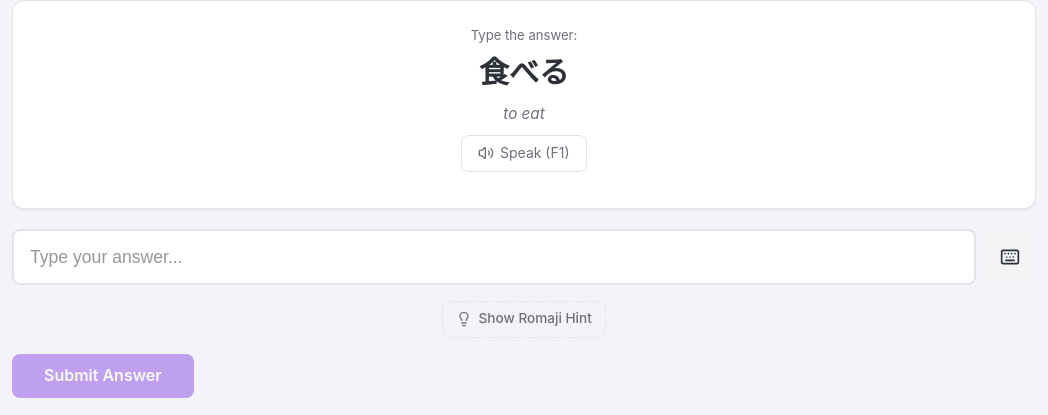
TypingQuiz Component › Input Behavior › should enable submit button when input has text
Type "something" into the field with placeholder "Type your answer...".
click(494, 257); type("something")  # box 12,229 -> 976,285
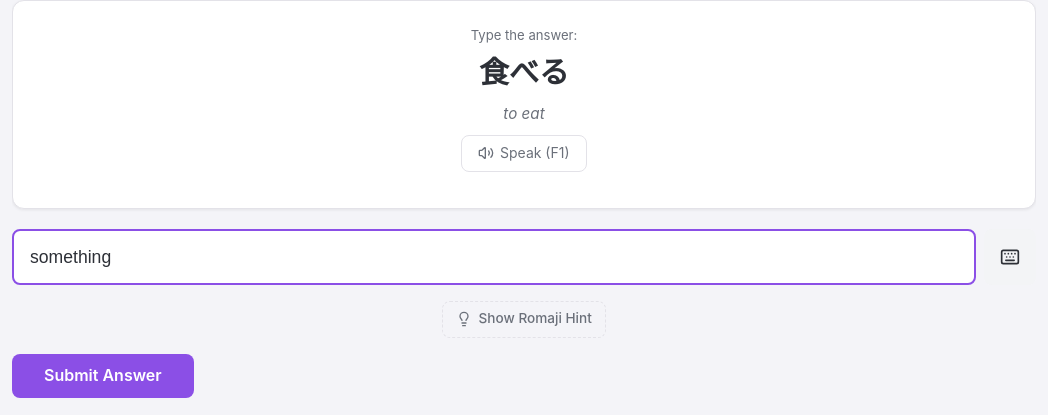
Result: the button "Submit Answer" is enabled at 12,354 -> 194,398
